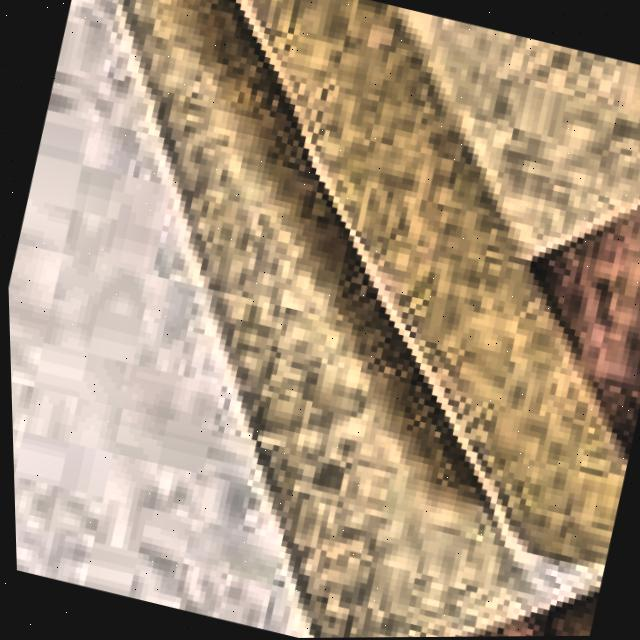paper: (7, 0, 304, 638)
